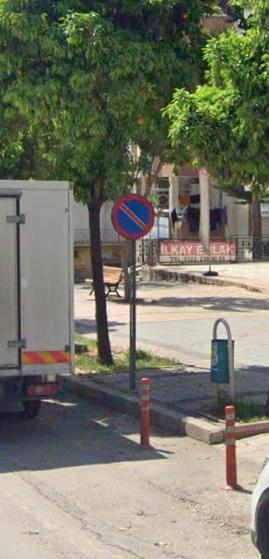nopark: (112, 195, 156, 241)
